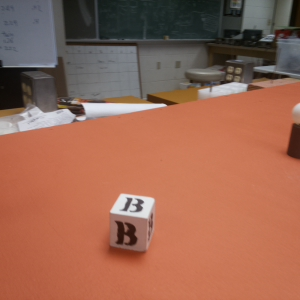blockB: (106, 191, 159, 253)
obstacle: (288, 101, 300, 161)
